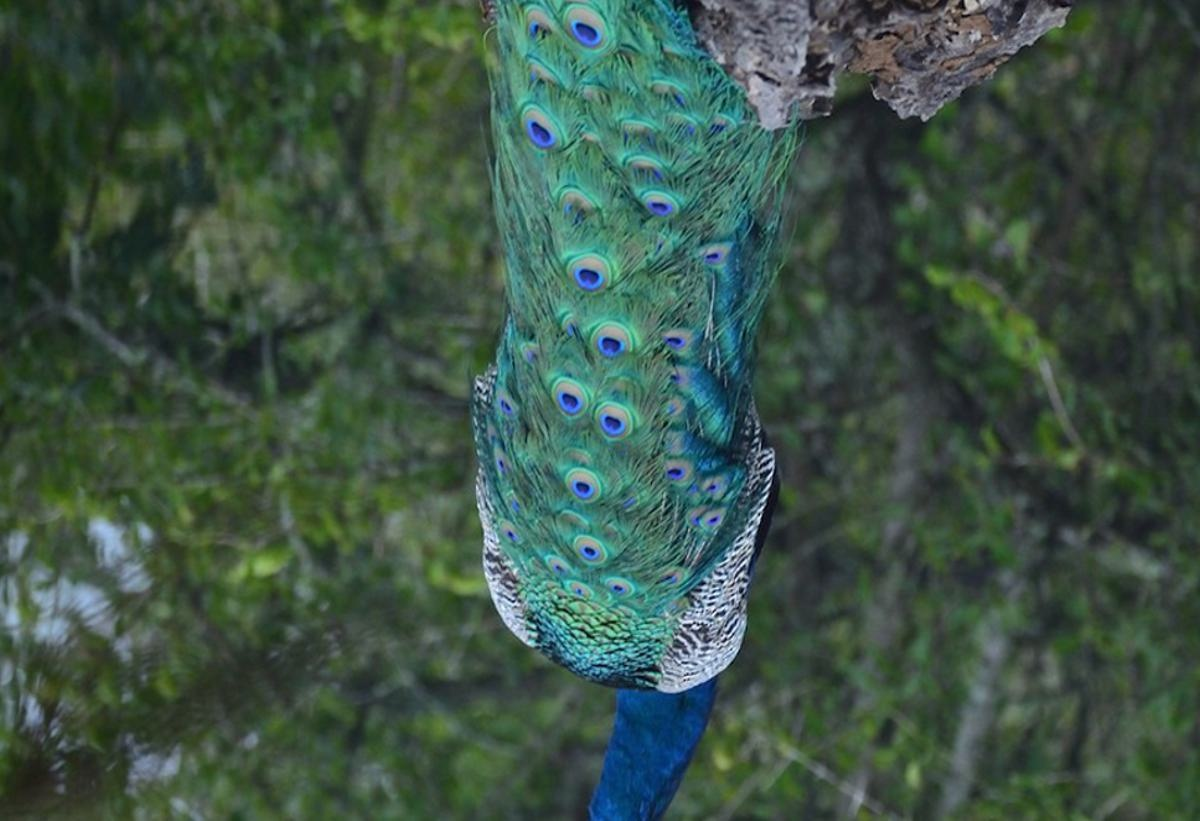peacock: (464, 1, 794, 814)
